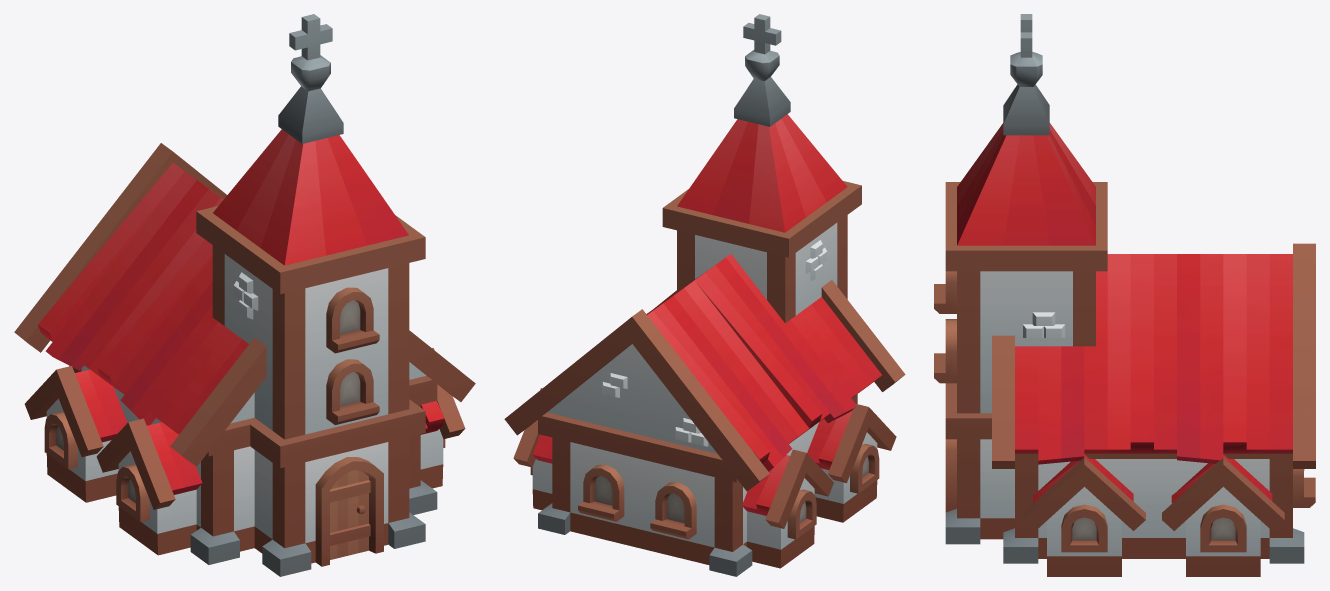
Rendered from k-church-kaykit.glb.
3 renders of one model, left to right at view 1: azimuth 30°, elevation 25°; view 2: azimuth 150°, elevation 25°; view 3: azimuth 270°, elevation 25°, orthographic. The views are drawn at different scales.
Parts seen in each view (by area): view 1: building_church_red; view 2: building_church_red; view 3: building_church_red.
Part boxes in pixels (bbox=[...]): building_church_red: bbox=[14, 14, 475, 576]; building_church_red: bbox=[504, 14, 905, 576]; building_church_red: bbox=[934, 14, 1315, 576].
Size of the model in its own units: 1.03 by 1.65 by 1.15.
1 material, 1 textured.
